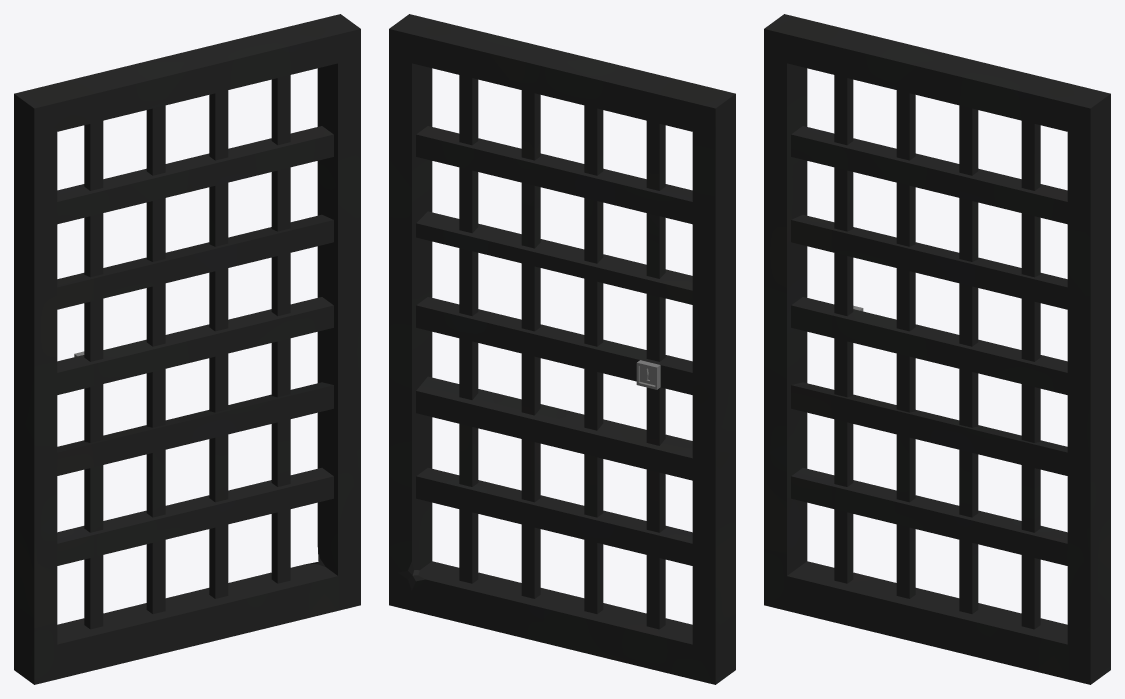
Rendered from Door_6.fbx.
The picture shows the model from 3 angles, left to right: view 1: azimuth 30°, elevation 25°; view 2: azimuth 150°, elevation 25°; view 3: azimuth 330°, elevation 25°; orthographic projection.
Parts seen in each view (by area): view 1: Door 6; view 2: Door 6; view 3: Door 6.
Boxes of the visible parts, x1,y1,x2,y2 form: Door 6: [14, 14, 360, 684]; Door 6: [389, 14, 735, 684]; Door 6: [764, 14, 1110, 684].
Bounding box in the file's own units: 121 × 204 × 13.01.
